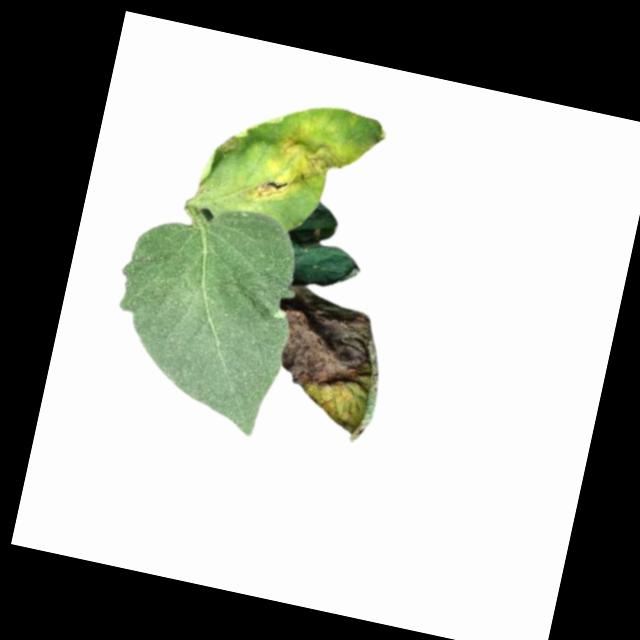Late_blight: (254, 280, 398, 446), (245, 121, 356, 220), (213, 122, 252, 160)
healthy: (91, 188, 312, 441)
